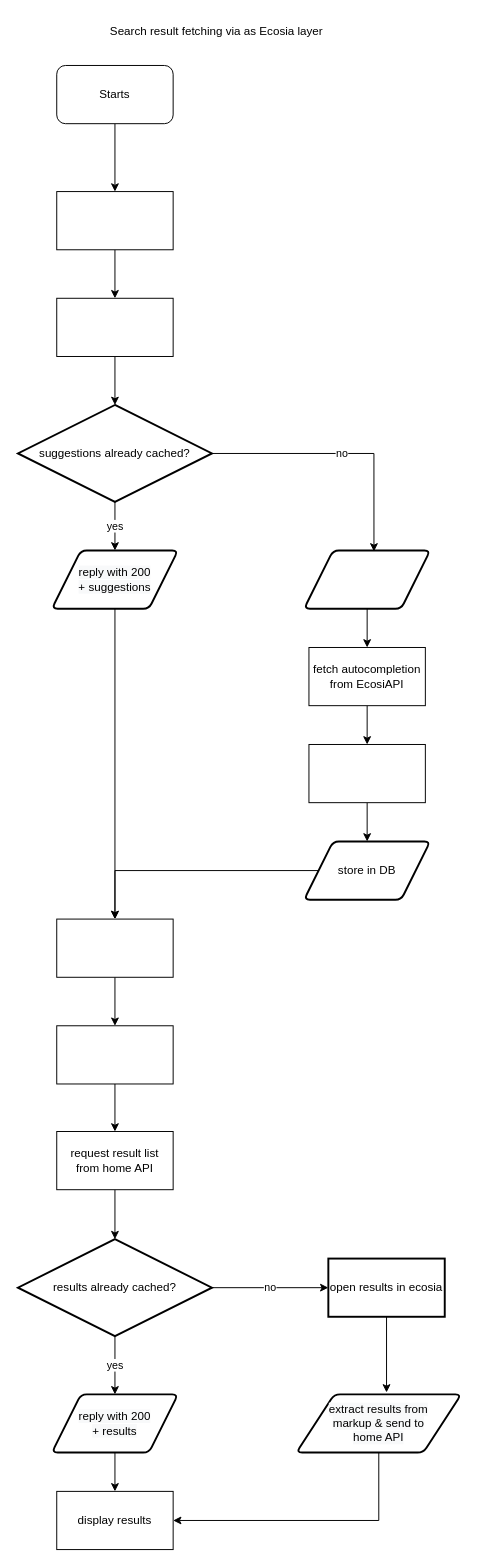
The diagram is 478 pixels wide and 1567 high, and some of its shapes have lost their labels. The shapes that lost their labels are listed below. From the top down, each one's centre as x and y in pixels, then its label:
At point 114,220: "user types query".
At point 114,326: "request autocompletion from home API".
At point 367,579: "reply with 404".
At point 366,773: "plugin sends it to home API for storing".
At point 114,947: "display suggestions".
At point 114,1054: "user chooses a suggestion or hits return".
